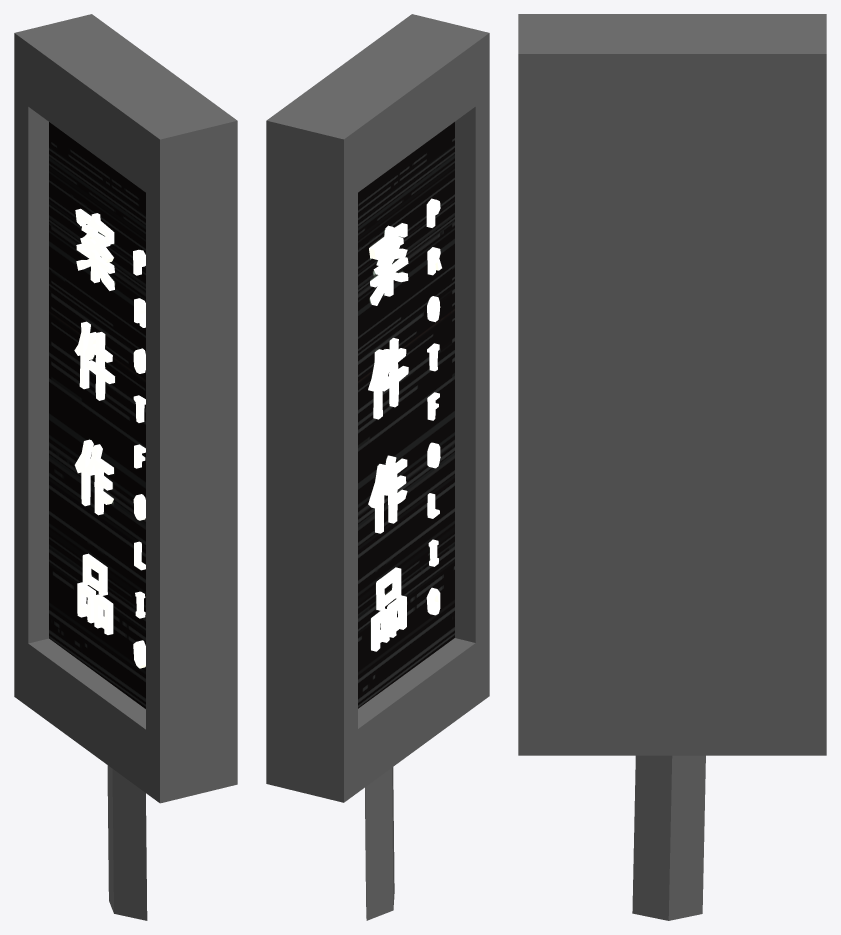
The picture shows the model from 3 angles, left to right: view 1: azimuth 30°, elevation 25°; view 2: azimuth 150°, elevation 25°; view 3: azimuth 270°, elevation 25°; orthographic projection. The views are drawn at different scales.
Parts seen in each view (by area): view 1: Profolio; view 2: Profolio; view 3: Profolio.
Part boxes in pixels (x1,y1,x2,y2): Profolio: (14, 14, 237, 920); Profolio: (266, 14, 489, 920); Profolio: (518, 14, 826, 920).
Bounding box in the file's own units: 0.2523 × 2.59 × 0.8212.
Materials: 3 (1 with a texture image).
